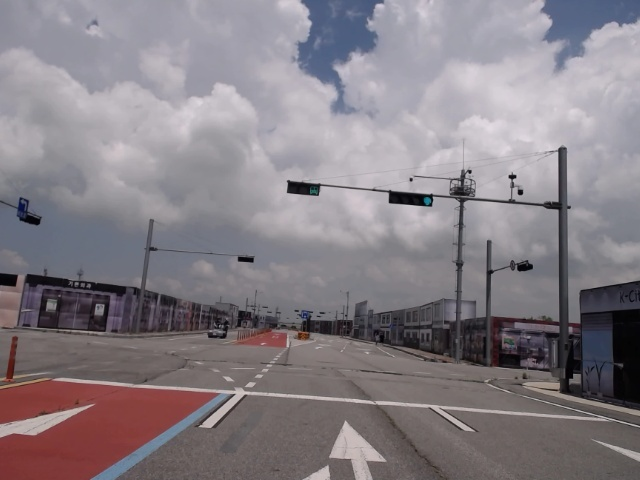straight_green_4: (391, 191, 434, 207)
